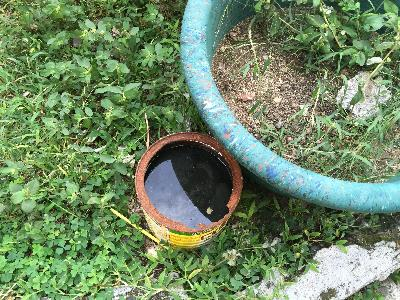bottle: (133, 130, 245, 251)
